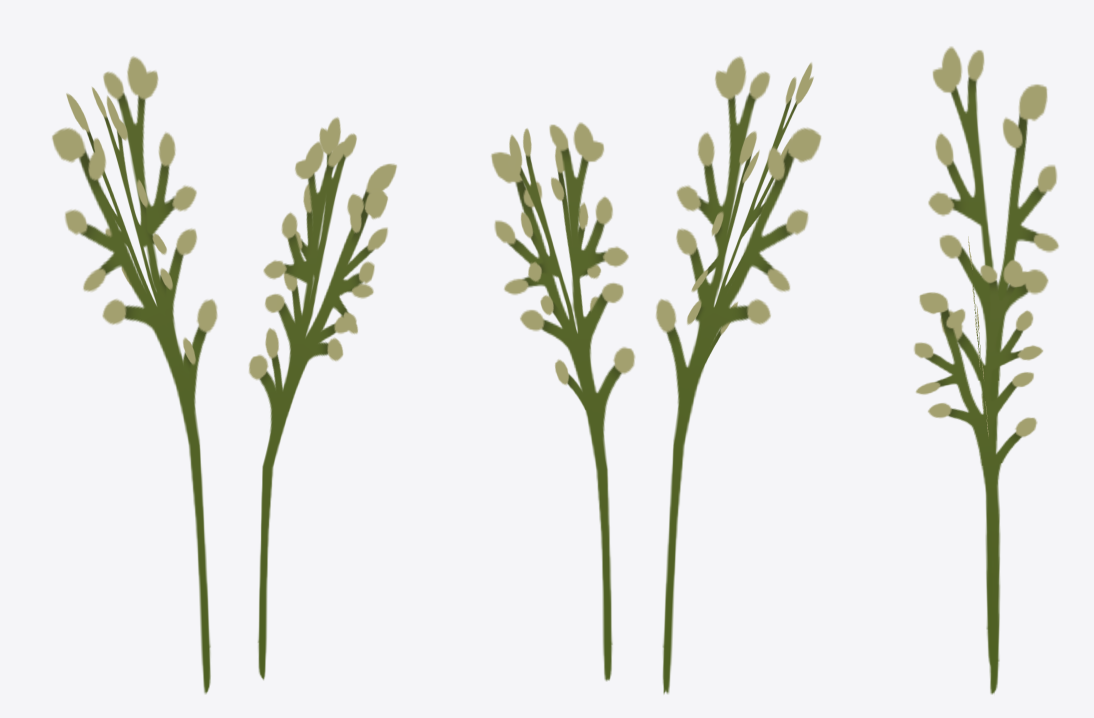
The model's file is flower07.glb.
3 views of the same model, side by side, from view 1: azimuth 30°, elevation 25°; view 2: azimuth 150°, elevation 25°; view 3: azimuth 270°, elevation 25° (orthographic). The views are drawn at different scales.
Parts seen in each view (by area): view 1: Flower07; view 2: Flower07; view 3: Flower07.
Part boxes in pixels (x1,y1,x2,y2): Flower07: [52, 56, 396, 693]; Flower07: [491, 56, 821, 693]; Flower07: [914, 46, 1058, 694].
Size of the model in its own units: 0.2606 by 0.4208 by 0.1201.
1 material, 1 textured.
